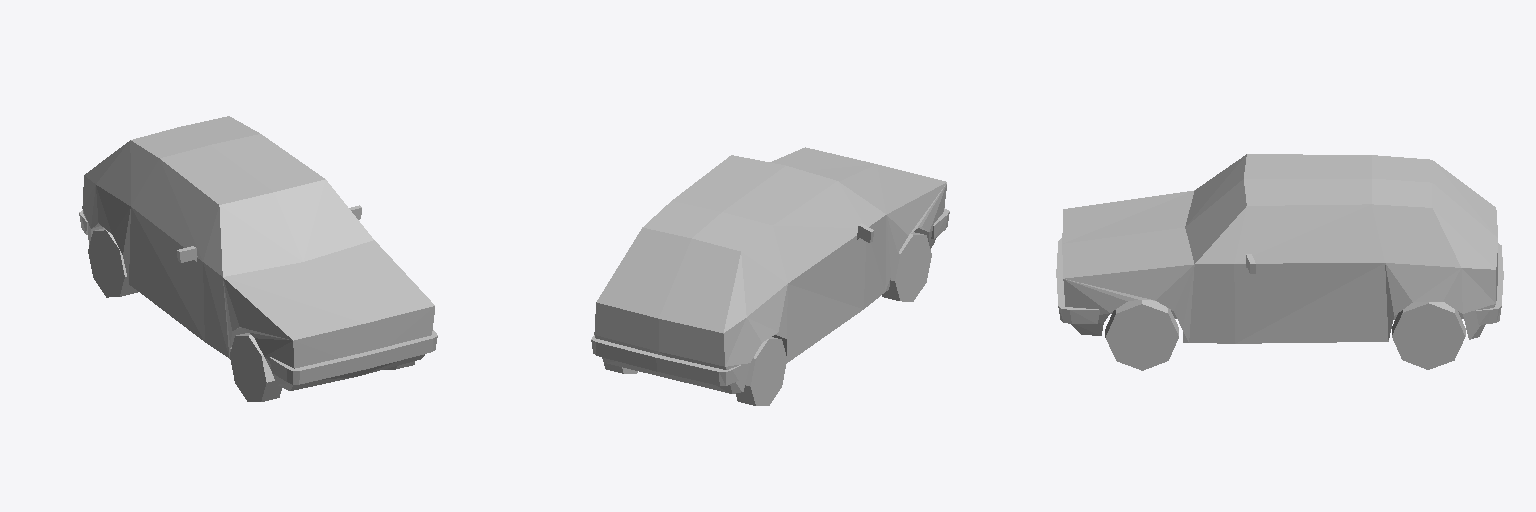
The model's file is Car3_o4.obj.
The picture shows the model from 3 angles: view 1: azimuth 30°, elevation 25°; view 2: azimuth 150°, elevation 25°; view 3: azimuth 270°, elevation 25°; orthographic projection.
Parts seen in each view (by area): view 1: Car3; view 2: Car3; view 3: Car3.
Part boxes in pixels (x1,y1,x2,y2): Car3: (79,116,437,401); Car3: (591,147,949,405); Car3: (1056,154,1503,370).
Size of the model in its own units: 1.59 by 1.29 by 3.37.